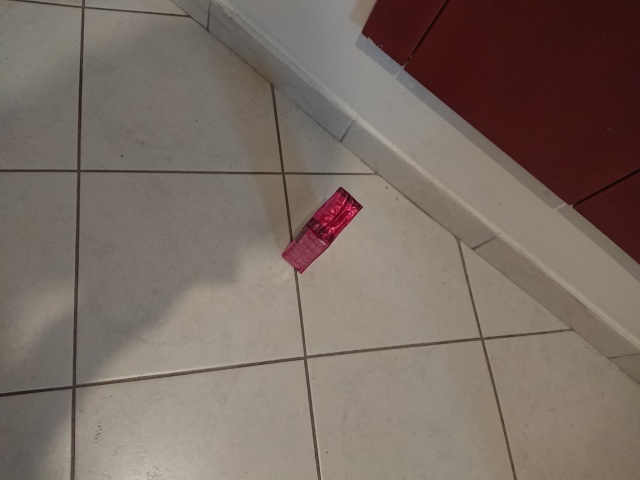Barcaffe Classic Original 225g: (280, 184, 364, 275)
